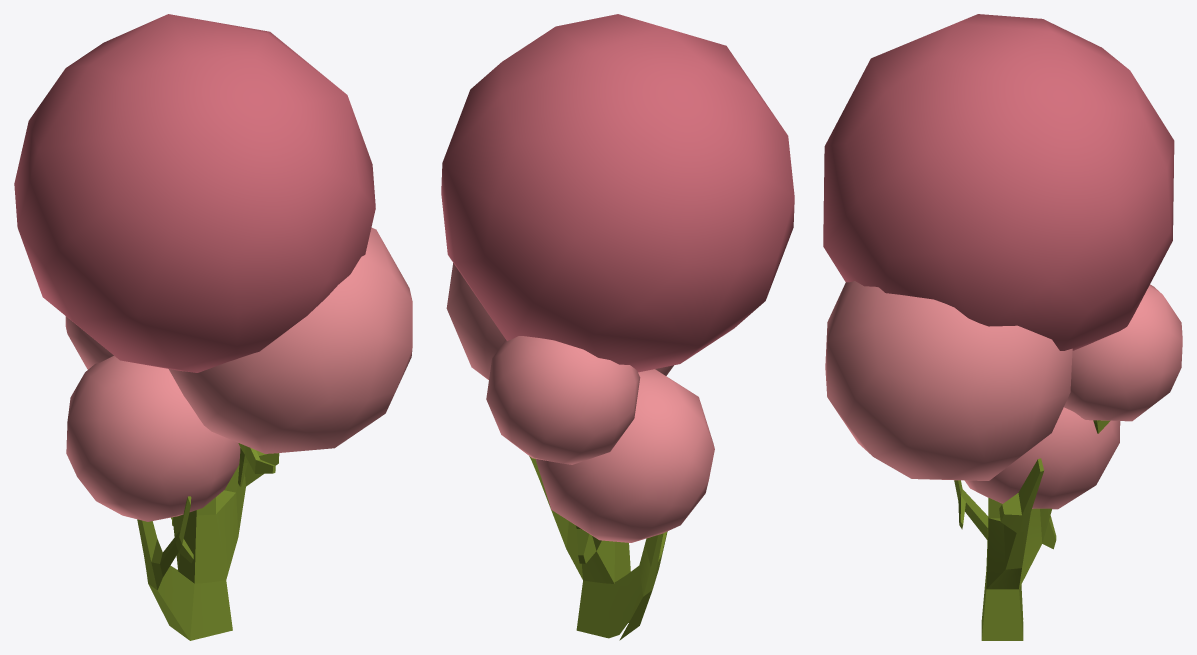
File: tree2_smoother.fbx
The picture shows the model from 3 angles, left to right: view 1: azimuth 30°, elevation 25°; view 2: azimuth 150°, elevation 25°; view 3: azimuth 270°, elevation 25°; orthographic projection.
Visible parts, largest first — view 1: pPlatonic2, pPlatonic4, pPlatonic5, branch3, pPlatonic3; view 2: pPlatonic2, pPlatonic5, pPlatonic3, branch3, pPlatonic4; view 3: pPlatonic2, pPlatonic4, pPlatonic3, branch3, pPlatonic5.
Boxes of the visible parts, x1,y1,x2,y2 form: pPlatonic2: (14,14,375,372); pPlatonic4: (169,227,412,453); pPlatonic5: (66,356,240,521); branch3: (137,443,279,640); pPlatonic3: (65,316,113,369); pPlatonic2: (441,14,794,372); pPlatonic5: (535,369,714,542); pPlatonic3: (486,336,640,464); branch3: (529,456,667,640); pPlatonic4: (446,263,673,379); pPlatonic2: (823,14,1174,350); pPlatonic4: (825,281,1072,480); pPlatonic3: (1064,284,1182,421); branch3: (954,420,1110,640); pPlatonic5: (964,407,1120,509).
Bounding box in the file's own units: 543 × 930 × 509.
